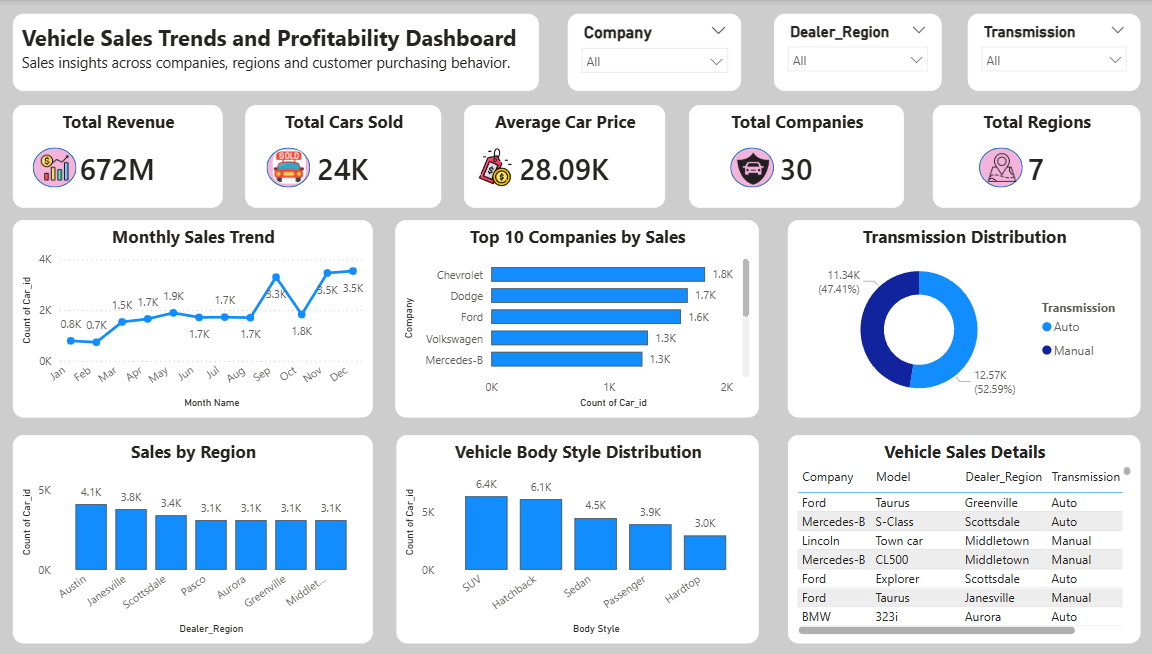

The dashboard page shown, as its layout file describes it:
{"tool":"powerbi","page":{"name":"Page 1","canvas":[1280,720],"ordinal":0},"visuals":[{"type":"textbox","box":[20.6,15.1,577.7,85.1],"z":0},{"type":"slicer","fields":{"Values":["clean_car_sales.Company"]},"box":[629.8,15.1,190.7,85.1],"z":1000},{"type":"slicer","fields":{"Values":["clean_car_sales.Dealer_Region"]},"box":[856.3,15.1,183.9,85.1],"z":2000},{"type":"slicer","fields":{"Values":["clean_car_sales.Transmission"]},"box":[1069,15.1,189.4,85.1],"z":3000},{"type":"cardVisual","title":"Total Revenue ","fields":{"Data":["clean_car_sales.Total Revenue"]},"box":[20.6,115.3,230.5,112.5],"z":4000},{"type":"cardVisual","title":"Total Cars Sold","fields":{"Data":["clean_car_sales.Total Cars Sold"]},"box":[275.8,115.3,215.4,112.5],"z":5000},{"type":"cardVisual","title":"Average Car Price","fields":{"Data":["clean_car_sales.Average Car Price"]},"box":[516,115.3,220.9,112.5],"z":6000},{"type":"cardVisual","title":"Total Companies","fields":{"Data":["clean_car_sales.Total Companies"]},"box":[763,115.3,236,112.5],"z":7000},{"type":"cardVisual","title":"Total Regions","fields":{"Data":["clean_car_sales.Total Regions"]},"box":[1030.5,115.3,227.8,112.5],"z":8000},{"type":"lineChart","title":"Monthly Sales Trend","fields":{"Y":["CountNonNull(clean_car_sales.Car_id)"],"Category":["clean_car_sales.Month Name"]},"box":[20.6,241.5,395.2,216.8],"z":9000},{"type":"clusteredBarChart","title":"Top 10 Companies by Sales","fields":{"Category":["clean_car_sales.Company"],"Y":["CountNonNull(clean_car_sales.Car_id)"]},"box":[440.5,241.5,399.3,216.8],"z":10000},{"type":"donutChart","title":"Transmission Distribution","fields":{"Category":["clean_car_sales.Transmission"],"Y":["CountNonNull(clean_car_sales.Car_id)"]},"box":[871.4,241.5,387,216.8],"z":11000},{"type":"clusteredColumnChart","title":"Sales by Region","fields":{"Y":["CountNonNull(clean_car_sales.Car_id)"],"Category":["clean_car_sales.Dealer_Region"]},"box":[20.6,477.5,395.2,229.2],"z":12000},{"type":"clusteredColumnChart","title":"Vehicle Body Style Distribution","fields":{"Category":["clean_car_sales.Body Style"],"Y":["CountNonNull(clean_car_sales.Car_id)"]},"box":[441.9,477.5,397.9,229.2],"z":13000},{"type":"tableEx","title":"Vehicle Sales Details","fields":{"Values":["clean_car_sales.Company","clean_car_sales.Model","clean_car_sales.Dealer_Region","clean_car_sales.Transmission","clean_car_sales.Price ($)"]},"box":[871.4,477.5,387,229.2],"z":14000},{"type":"shape","box":[42.5,161.9,48,43.9],"z":15000},{"type":"image","box":[42.5,168.8,48,30.2],"z":16000},{"type":"shape","box":[299.1,161.9,48,43.9],"z":17000},{"type":"shape","box":[525.6,161.9,48,43.9],"z":18000},{"type":"shape","box":[808.2,161.9,48,43.9],"z":19000},{"type":"shape","box":[1081.3,161.9,48,43.9],"z":20000},{"type":"image","box":[306,164.7,35.7,37],"z":21000},{"type":"image","box":[521.4,161.9,57.6,43.9],"z":22000},{"type":"image","box":[805.5,164.7,56.3,41.2],"z":23000},{"type":"image","box":[1090.9,161.9,31.6,43.9],"z":24000}]}

Visuals, with their boxes in screenshot pixels (x1, y1, x2, y2), scaled from the page's 1280x720 canvas onto the 1152x654 screenshot:
textbox: box=[19, 14, 538, 91]
slicer - clean_car_sales.Company: box=[567, 14, 738, 91]
slicer - clean_car_sales.Dealer_Region: box=[771, 14, 936, 91]
slicer - clean_car_sales.Transmission: box=[962, 14, 1133, 91]
"Total Revenue " cardVisual: box=[19, 105, 226, 207]
"Total Cars Sold" cardVisual: box=[248, 105, 442, 207]
"Average Car Price" cardVisual: box=[464, 105, 663, 207]
"Total Companies" cardVisual: box=[687, 105, 899, 207]
"Total Regions" cardVisual: box=[927, 105, 1132, 207]
"Monthly Sales Trend" lineChart: box=[19, 219, 374, 416]
"Top 10 Companies by Sales" clusteredBarChart: box=[396, 219, 756, 416]
"Transmission Distribution" donutChart: box=[784, 219, 1133, 416]
"Sales by Region" clusteredColumnChart: box=[19, 434, 374, 642]
"Vehicle Body Style Distribution" clusteredColumnChart: box=[398, 434, 756, 642]
"Vehicle Sales Details" tableEx: box=[784, 434, 1133, 642]
shape: box=[38, 147, 81, 187]
image: box=[38, 153, 81, 181]
shape: box=[269, 147, 312, 187]
shape: box=[473, 147, 516, 187]
shape: box=[727, 147, 771, 187]
shape: box=[973, 147, 1016, 187]
image: box=[275, 150, 308, 183]
image: box=[469, 147, 521, 187]
image: box=[725, 150, 776, 187]
image: box=[982, 147, 1010, 187]
